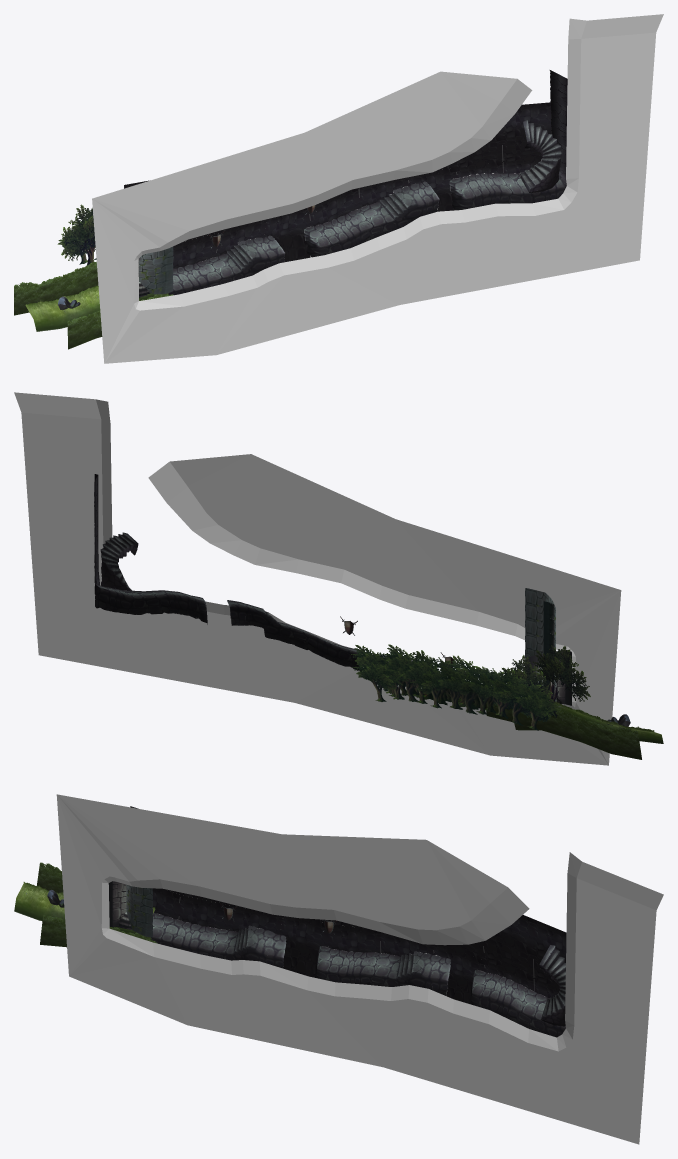
File: Castle Tower Part 2.FBX
The picture shows the model from 3 angles, top to bottom: view 1: azimuth 30°, elevation 25°; view 2: azimuth 150°, elevation 25°; view 3: azimuth 330°, elevation 25°; orthographic projection. The views are drawn at different scales.
Visible parts, largest first — view 1: LVL 2 Black Castle, Back Wall, Stone Floor 2, Stone Floor 1, Stone Floor 3, Grass Landscape BG002, Grass Landscape002, Stone Floor Stairs, Side Walls, Trees BG B, Tower Entrance, Grass Landscape FG002; view 2: LVL 2 Black Castle, Tree Group B, Grass Landscape BG002, Stone Floor 2, Trees BG B, Stone Floor 3, Tower Entrance, Stone Floor Stairs, Side Walls, Grass Landscape002, Tower Entrance Interior; view 3: LVL 2 Black Castle, Back Wall, Stone Floor 2, Stone Floor 1, Stone Floor 3, Grass Landscape002, Stone Floor Stairs, Tower Entrance, Grass Landscape FG002, Tower Entrance Interior, Grass Landscape BG002.
Boxes of the visible parts, x1,y1,x2,y2 form: LVL 2 Black Castle: (92,14,663,363); Back Wall: (124,102,551,268); Stone Floor 2: (304,181,439,257); Stone Floor 1: (139,235,285,297); Stone Floor 3: (449,173,553,210); Grass Landscape BG002: (14,261,98,315); Grass Landscape002: (25,285,155,331); Stone Floor Stairs: (519,120,561,192); Side Walls: (549,70,567,199); Trees BG B: (60,204,95,265); Tower Entrance: (140,246,173,294); Grass Landscape FG002: (67,293,173,349); LVL 2 Black Castle: (14,392,621,765); Tree Group B: (351,644,561,730); Grass Landscape BG002: (485,703,641,759); Stone Floor 2: (227,600,361,670); Trees BG B: (502,645,590,717); Stone Floor 3: (104,586,207,624); Tower Entrance: (525,588,556,702); Stone Floor Stairs: (100,532,138,593); Side Walls: (94,474,112,611); Grass Landscape002: (554,702,663,743); Tower Entrance Interior: (526,650,571,705); LVL 2 Black Castle: (56,794,663,1144); Back Wall: (130,806,566,1003); Stone Floor 2: (315,946,450,995); Stone Floor 1: (115,912,286,968); Stone Floor 3: (470,970,565,1037); Grass Landscape002: (14,882,155,933); Stone Floor Stairs: (539,945,565,1026); Tower Entrance: (126,885,152,937); Grass Landscape FG002: (40,915,157,947); Tower Entrance Interior: (108,881,131,928); Grass Landscape BG002: (37,862,63,893).
Size of what is drawn, in the model's own units: 8193 by 1053 by 3238.
